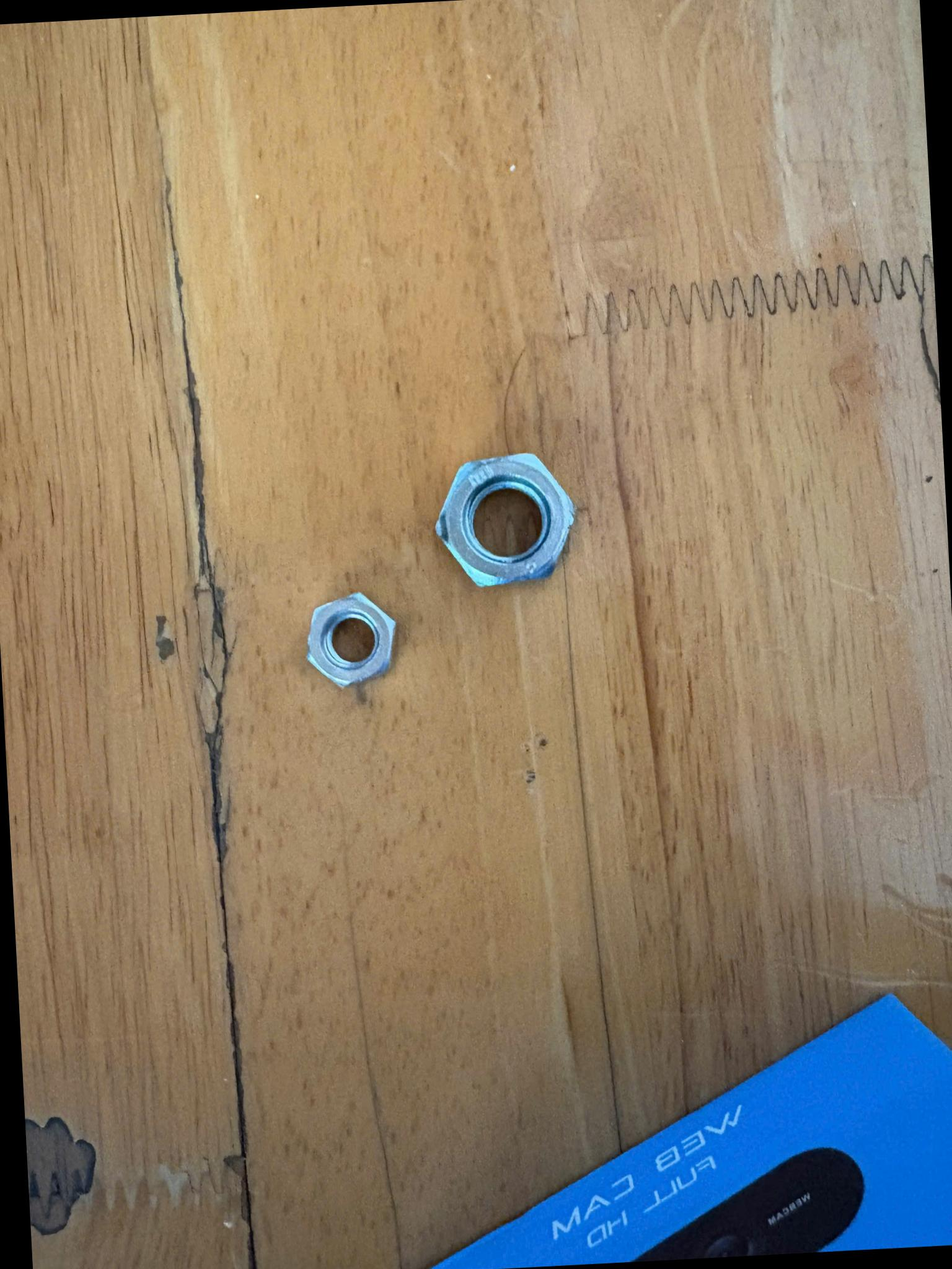nut: (426, 431, 588, 607), (293, 579, 410, 701)
